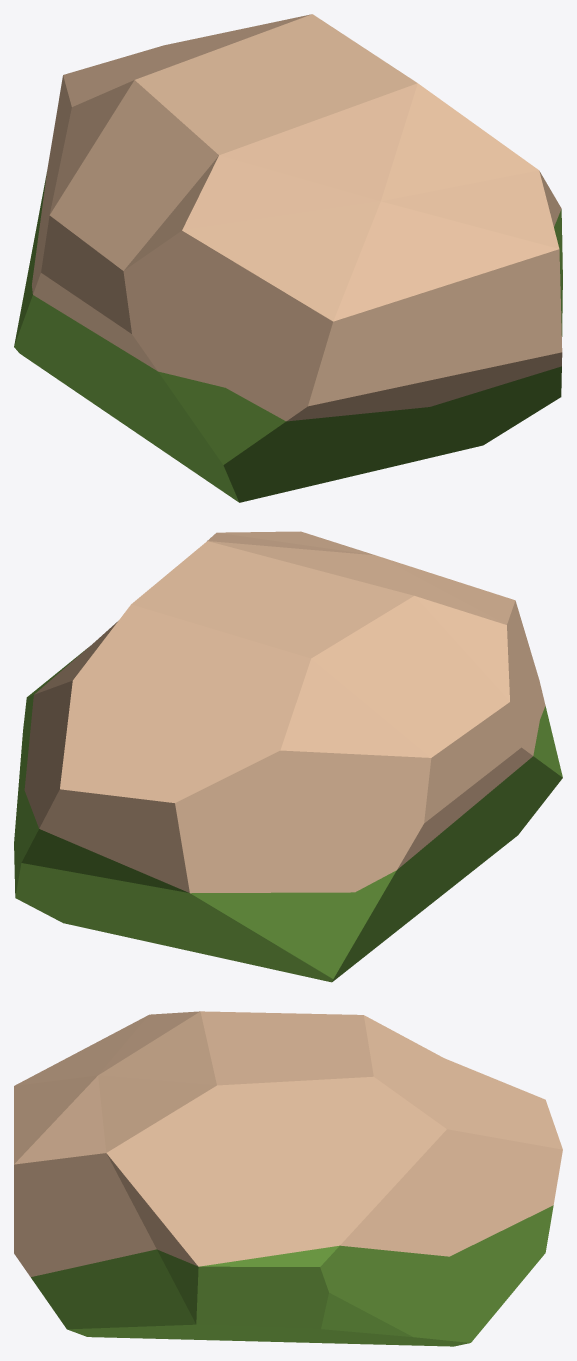
Rendered from Rock1.fbx.
3 views of the same model, one above another, from view 1: azimuth 30°, elevation 25°; view 2: azimuth 150°, elevation 25°; view 3: azimuth 270°, elevation 25° (orthographic). The views are drawn at different scales.
Visible parts, largest first — view 1: Cube.003; view 2: Cube.003; view 3: Cube.003.
Part boxes in pixels (bbox=[...]): Cube.003: bbox=[14, 14, 562, 502]; Cube.003: bbox=[14, 531, 562, 982]; Cube.003: bbox=[14, 1011, 562, 1346].
Size of the model in its own units: 188 by 125 by 239.
